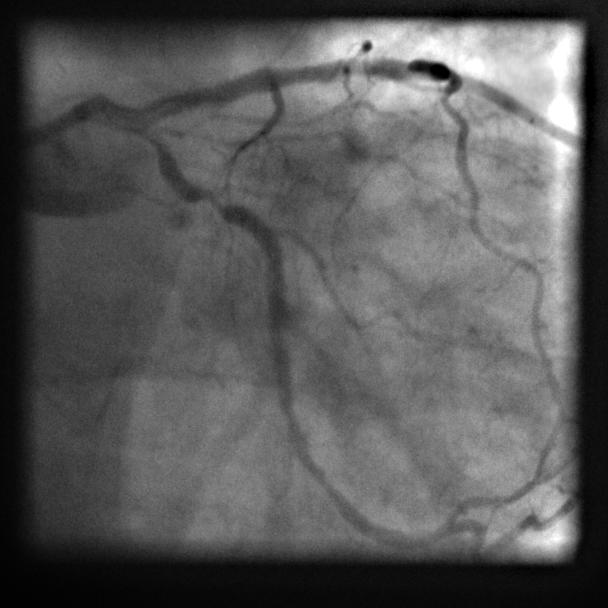Stenosis: (200, 187, 225, 214)
